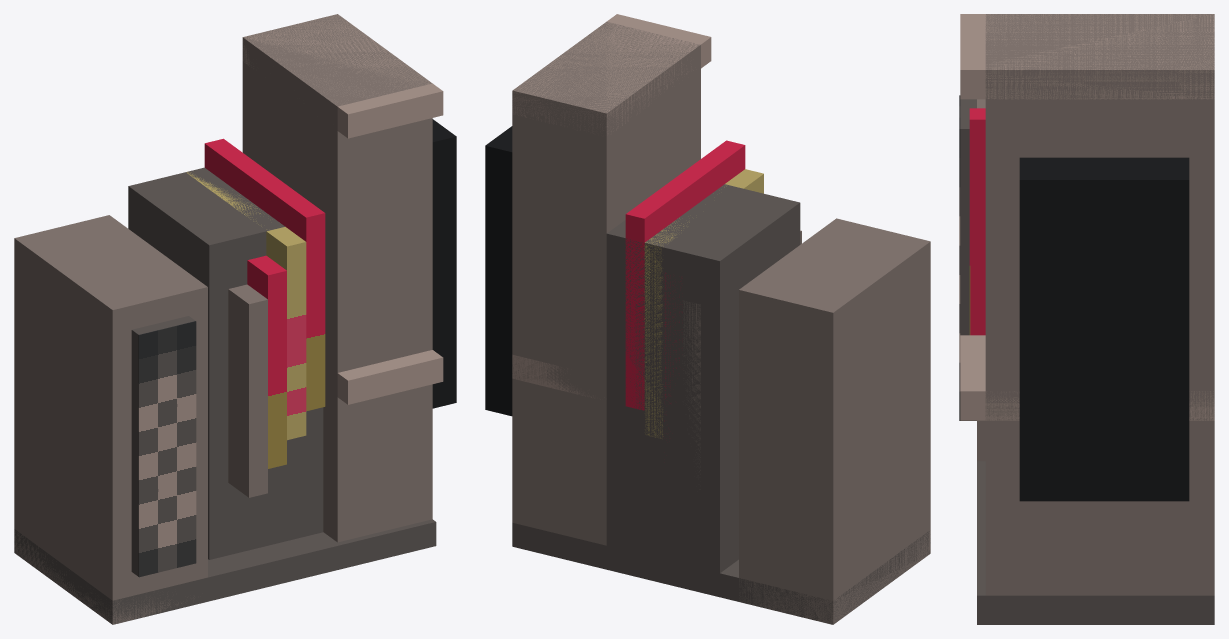
The model's file is CMU3DDropshipNavigationCloudWest.glb.
3 renders of one model, left to right at view 1: azimuth 30°, elevation 25°; view 2: azimuth 150°, elevation 25°; view 3: azimuth 270°, elevation 25°, orthographic. The views are drawn at different scales.
Parts seen in each view (by area): view 1: side stepped rear body, keyboard end body, side main screen backing, side keyboard keys source detail, lower connected console rail, raised side upper rim, rear side connector, sloped screen supporting rib 0, narrow visible side display 1 source detail, narrow visible side display 0 source detail, narrow visible side display 3 source detail, narrow visible side display 2 source detail (+6 smaller); view 2: keyboard end body, side stepped rear body, side main screen backing, lower connected console rail, raised side upper rim, sloped screen supporting rib 0, rear side connector, sloped screen supporting rib 1, raised side lower rim, sloped screen supporting rib 3; view 3: side stepped rear body, rear side connector, raised side upper rim, lower connected console rail, raised side lower rim, narrow visible side display 0 substrate, side keyboard keys substrate, sloped screen supporting rib 0, side keyboard keys source detail, keyboard end body, narrow visible side display 0 source detail.
Part boxes in pixels (x1,y1,x2,y2): side stepped rear body: (242, 14, 432, 542); keyboard end body: (14, 215, 207, 624); side main screen backing: (128, 167, 323, 559); side keyboard keys source detail: (138, 321, 196, 577); lower connected console rail: (14, 519, 436, 624); raised side upper rim: (242, 14, 443, 138); rear side connector: (432, 119, 456, 408); sloped screen supporting rib 0: (204, 138, 319, 237); narrow visible side display 1 source detail: (286, 241, 306, 440); narrow visible side display 0 source detail: (305, 213, 325, 411); narrow visible side display 3 source detail: (248, 299, 267, 497); narrow visible side display 2 source detail: (267, 270, 286, 468); keyboard end body: (739, 218, 930, 624); side stepped rear body: (512, 21, 700, 545); side main screen backing: (606, 184, 800, 573); lower connected console rail: (512, 522, 930, 624); raised side upper rim: (512, 14, 711, 133); sloped screen supporting rib 0: (625, 144, 740, 410); rear side connector: (485, 126, 512, 416); sloped screen supporting rib 1: (644, 172, 759, 438); raised side lower rim: (512, 354, 604, 399); sloped screen supporting rib 3: (682, 300, 700, 489); side stepped rear body: (985, 14, 1214, 595); rear side connector: (1019, 157, 1189, 501); raised side upper rim: (960, 14, 1214, 99); lower connected console rail: (977, 461, 1214, 624); raised side lower rim: (960, 335, 1214, 420); narrow visible side display 0 substrate: (970, 108, 981, 335); side keyboard keys substrate: (960, 99, 976, 420); sloped screen supporting rib 0: (981, 108, 985, 335); side keyboard keys source detail: (959, 95, 960, 420); keyboard end body: (977, 99, 985, 461); narrow visible side display 0 source detail: (969, 108, 970, 334).
Size of the model in its own units: 0.5938 by 0.722 by 0.301.
10 materials, 4 textured.
